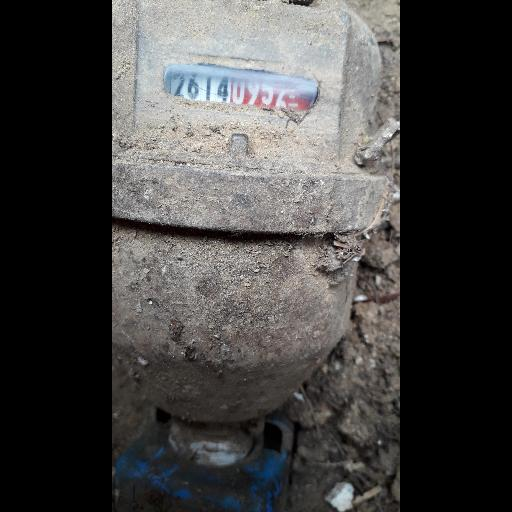0: (230, 71, 249, 107)
1: (202, 68, 219, 102)
2: (170, 66, 188, 100)
4: (216, 70, 233, 104)
5: (259, 75, 276, 110)
6: (273, 76, 291, 112), (185, 67, 204, 101)
9: (246, 72, 263, 108)
border_water_meter_number: (161, 53, 321, 121)
